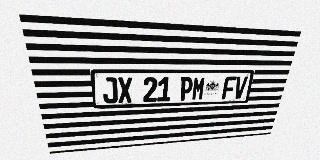1: (157, 77, 171, 102)
2: (143, 77, 157, 102)
F: (222, 76, 237, 99)
J: (101, 77, 118, 104)
M: (191, 77, 206, 100)
P: (179, 77, 193, 101)
V: (233, 76, 248, 99)
X: (117, 77, 132, 103)
